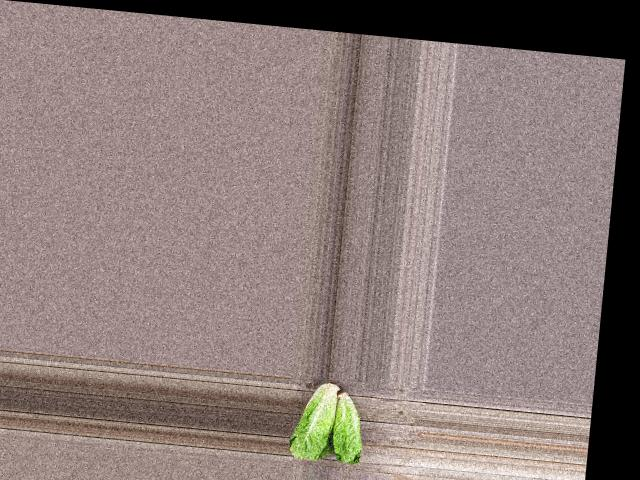lettuce: (286, 375, 340, 465)
